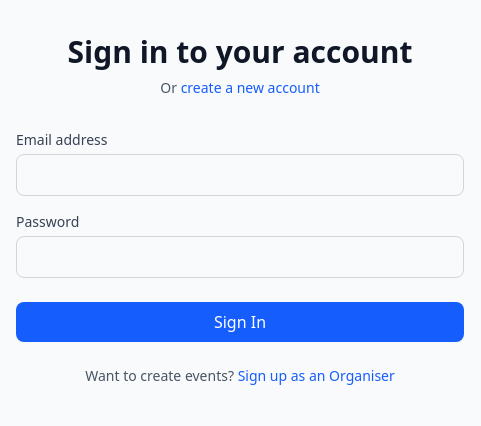
Scenario: LoginView › shows invalid email error for bad email format
In the field labelled "Email address": (240, 175) [16,154,464,196], type "notanemail"
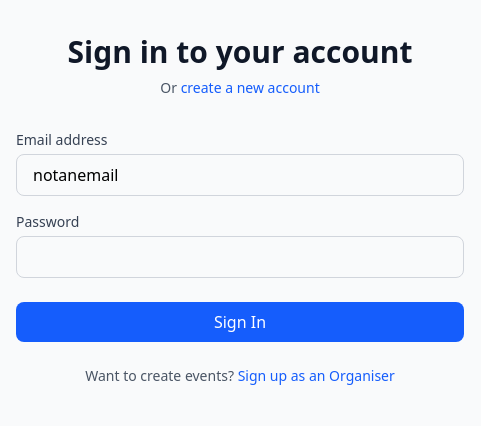
# fireEvent.submit bypasses browser native email validation so React's handler runs
Submit the form, box [16,130,464,386]
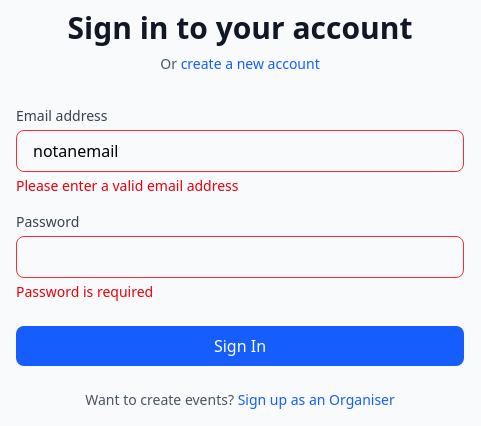
Result: the text "Please enter a valid email address" is shown at [16,176,238,195]
